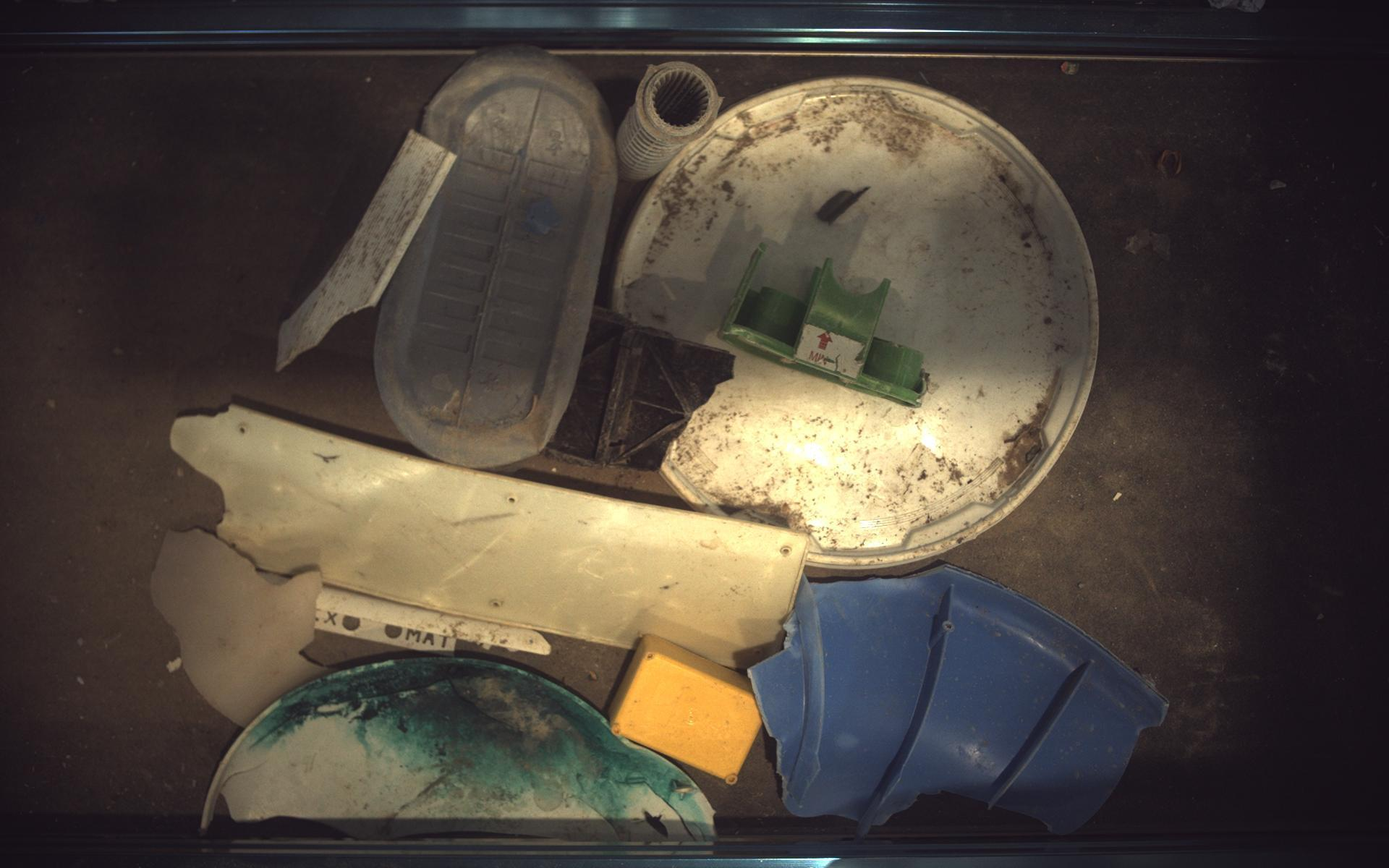plastic: (613, 77, 1100, 569), (169, 406, 810, 668), (749, 566, 1170, 836), (374, 46, 619, 468), (200, 658, 716, 844), (276, 130, 456, 371), (150, 529, 325, 728), (721, 243, 930, 407), (547, 307, 735, 471), (610, 635, 763, 786), (314, 587, 552, 656), (616, 60, 723, 179), (817, 186, 872, 223)
